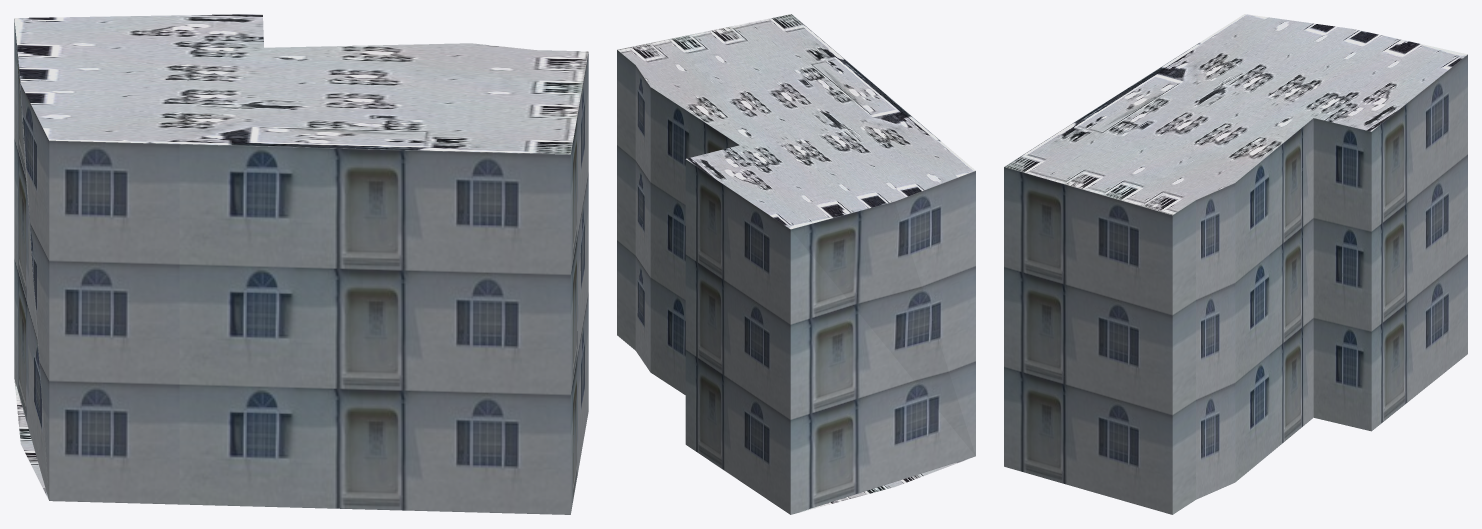
The model's file is ResTex__4678.fbx.
3 views of the same model, side by side, from view 1: azimuth 30°, elevation 25°; view 2: azimuth 150°, elevation 25°; view 3: azimuth 270°, elevation 25° (orthographic). The views are drawn at different scales.
Visible parts, largest first — view 1: CityEngineMaterial_17_m, CityEngineMaterial_4_m; view 2: CityEngineMaterial_17_m, CityEngineMaterial_4_m; view 3: CityEngineMaterial_17_m, CityEngineMaterial_4_m.
Boxes of the visible parts, x1,y1,x2,y2 form: CityEngineMaterial_17_m: (14,19,588,514); CityEngineMaterial_4_m: (14,14,588,499); CityEngineMaterial_17_m: (617,50,975,514); CityEngineMaterial_4_m: (617,14,975,513); CityEngineMaterial_17_m: (1004,54,1467,514); CityEngineMaterial_4_m: (1004,14,1467,215).
Bounding box in the file's own units: 12.96 × 9 × 12.63.
Materials: 2 (2 with a texture image).
